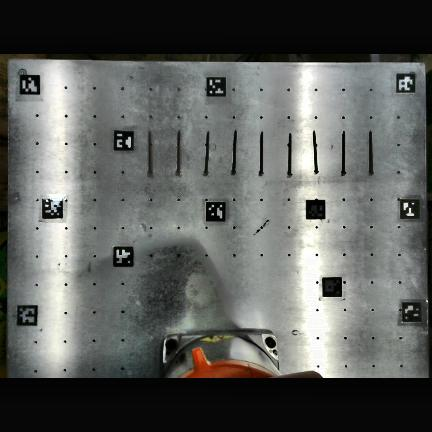golden_screw: (176, 132, 182, 175), (313, 131, 319, 174), (232, 131, 236, 174), (205, 132, 209, 174), (342, 132, 346, 174), (369, 132, 373, 174), (288, 134, 292, 175), (149, 132, 152, 174), (260, 132, 263, 174)
marker: (17, 304, 38, 325), (400, 198, 420, 219), (42, 198, 62, 218), (113, 246, 133, 266), (114, 130, 134, 150), (206, 75, 226, 95), (403, 300, 422, 321), (206, 201, 225, 222), (20, 75, 40, 94), (396, 73, 415, 93), (306, 200, 325, 219), (323, 278, 342, 296)
